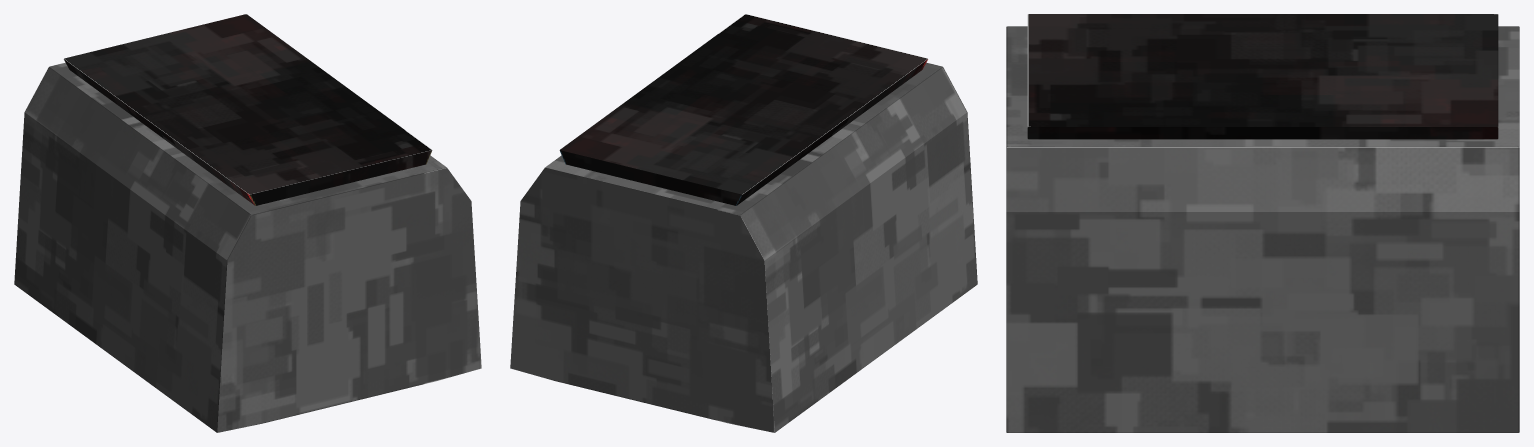
File: furnace.fbx
3 renders of one model, left to right at view 1: azimuth 30°, elevation 25°; view 2: azimuth 150°, elevation 25°; view 3: azimuth 270°, elevation 25°, orthographic. The views are drawn at different scales.
Parts seen in each view (by area): view 1: beveled_cuboid; view 2: beveled_cuboid; view 3: beveled_cuboid.
Boxes of the visible parts, bbox=[...] form: beveled_cuboid: bbox=[14, 14, 481, 432]; beveled_cuboid: bbox=[510, 14, 977, 432]; beveled_cuboid: bbox=[1006, 14, 1519, 432].
Size of the model in its own units: 135 by 110 by 180.
1 material, 1 textured.
